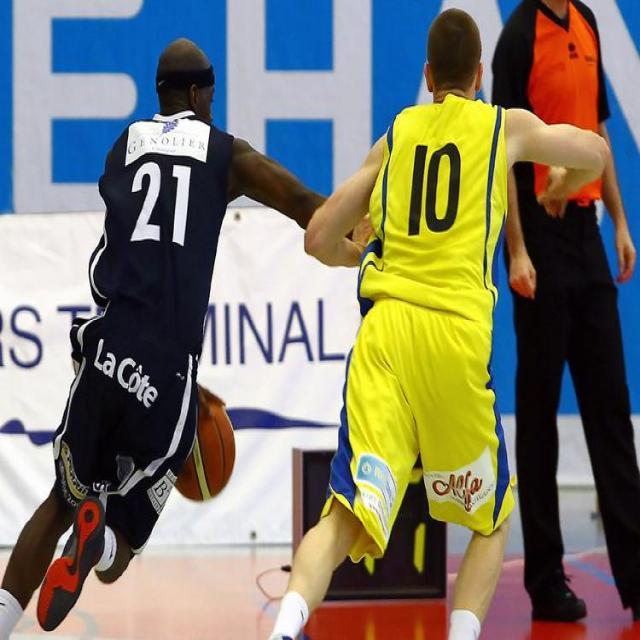rim: (176, 392, 238, 500)
